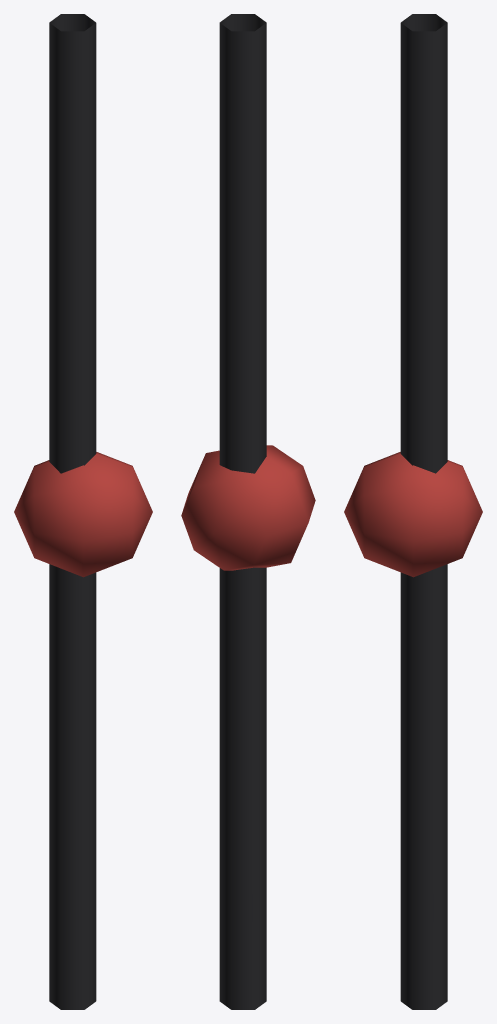
File: wire-ball.obj
3 views of the same model, side by side, from view 1: azimuth 90°, elevation 25°; view 2: azimuth 150°, elevation 25°; view 3: azimuth 270°, elevation 25° (orthographic).
Bounding box in the file's own units: 0.13 × 1.01 × 0.13.
Materials: 1 (1 with a texture image).
